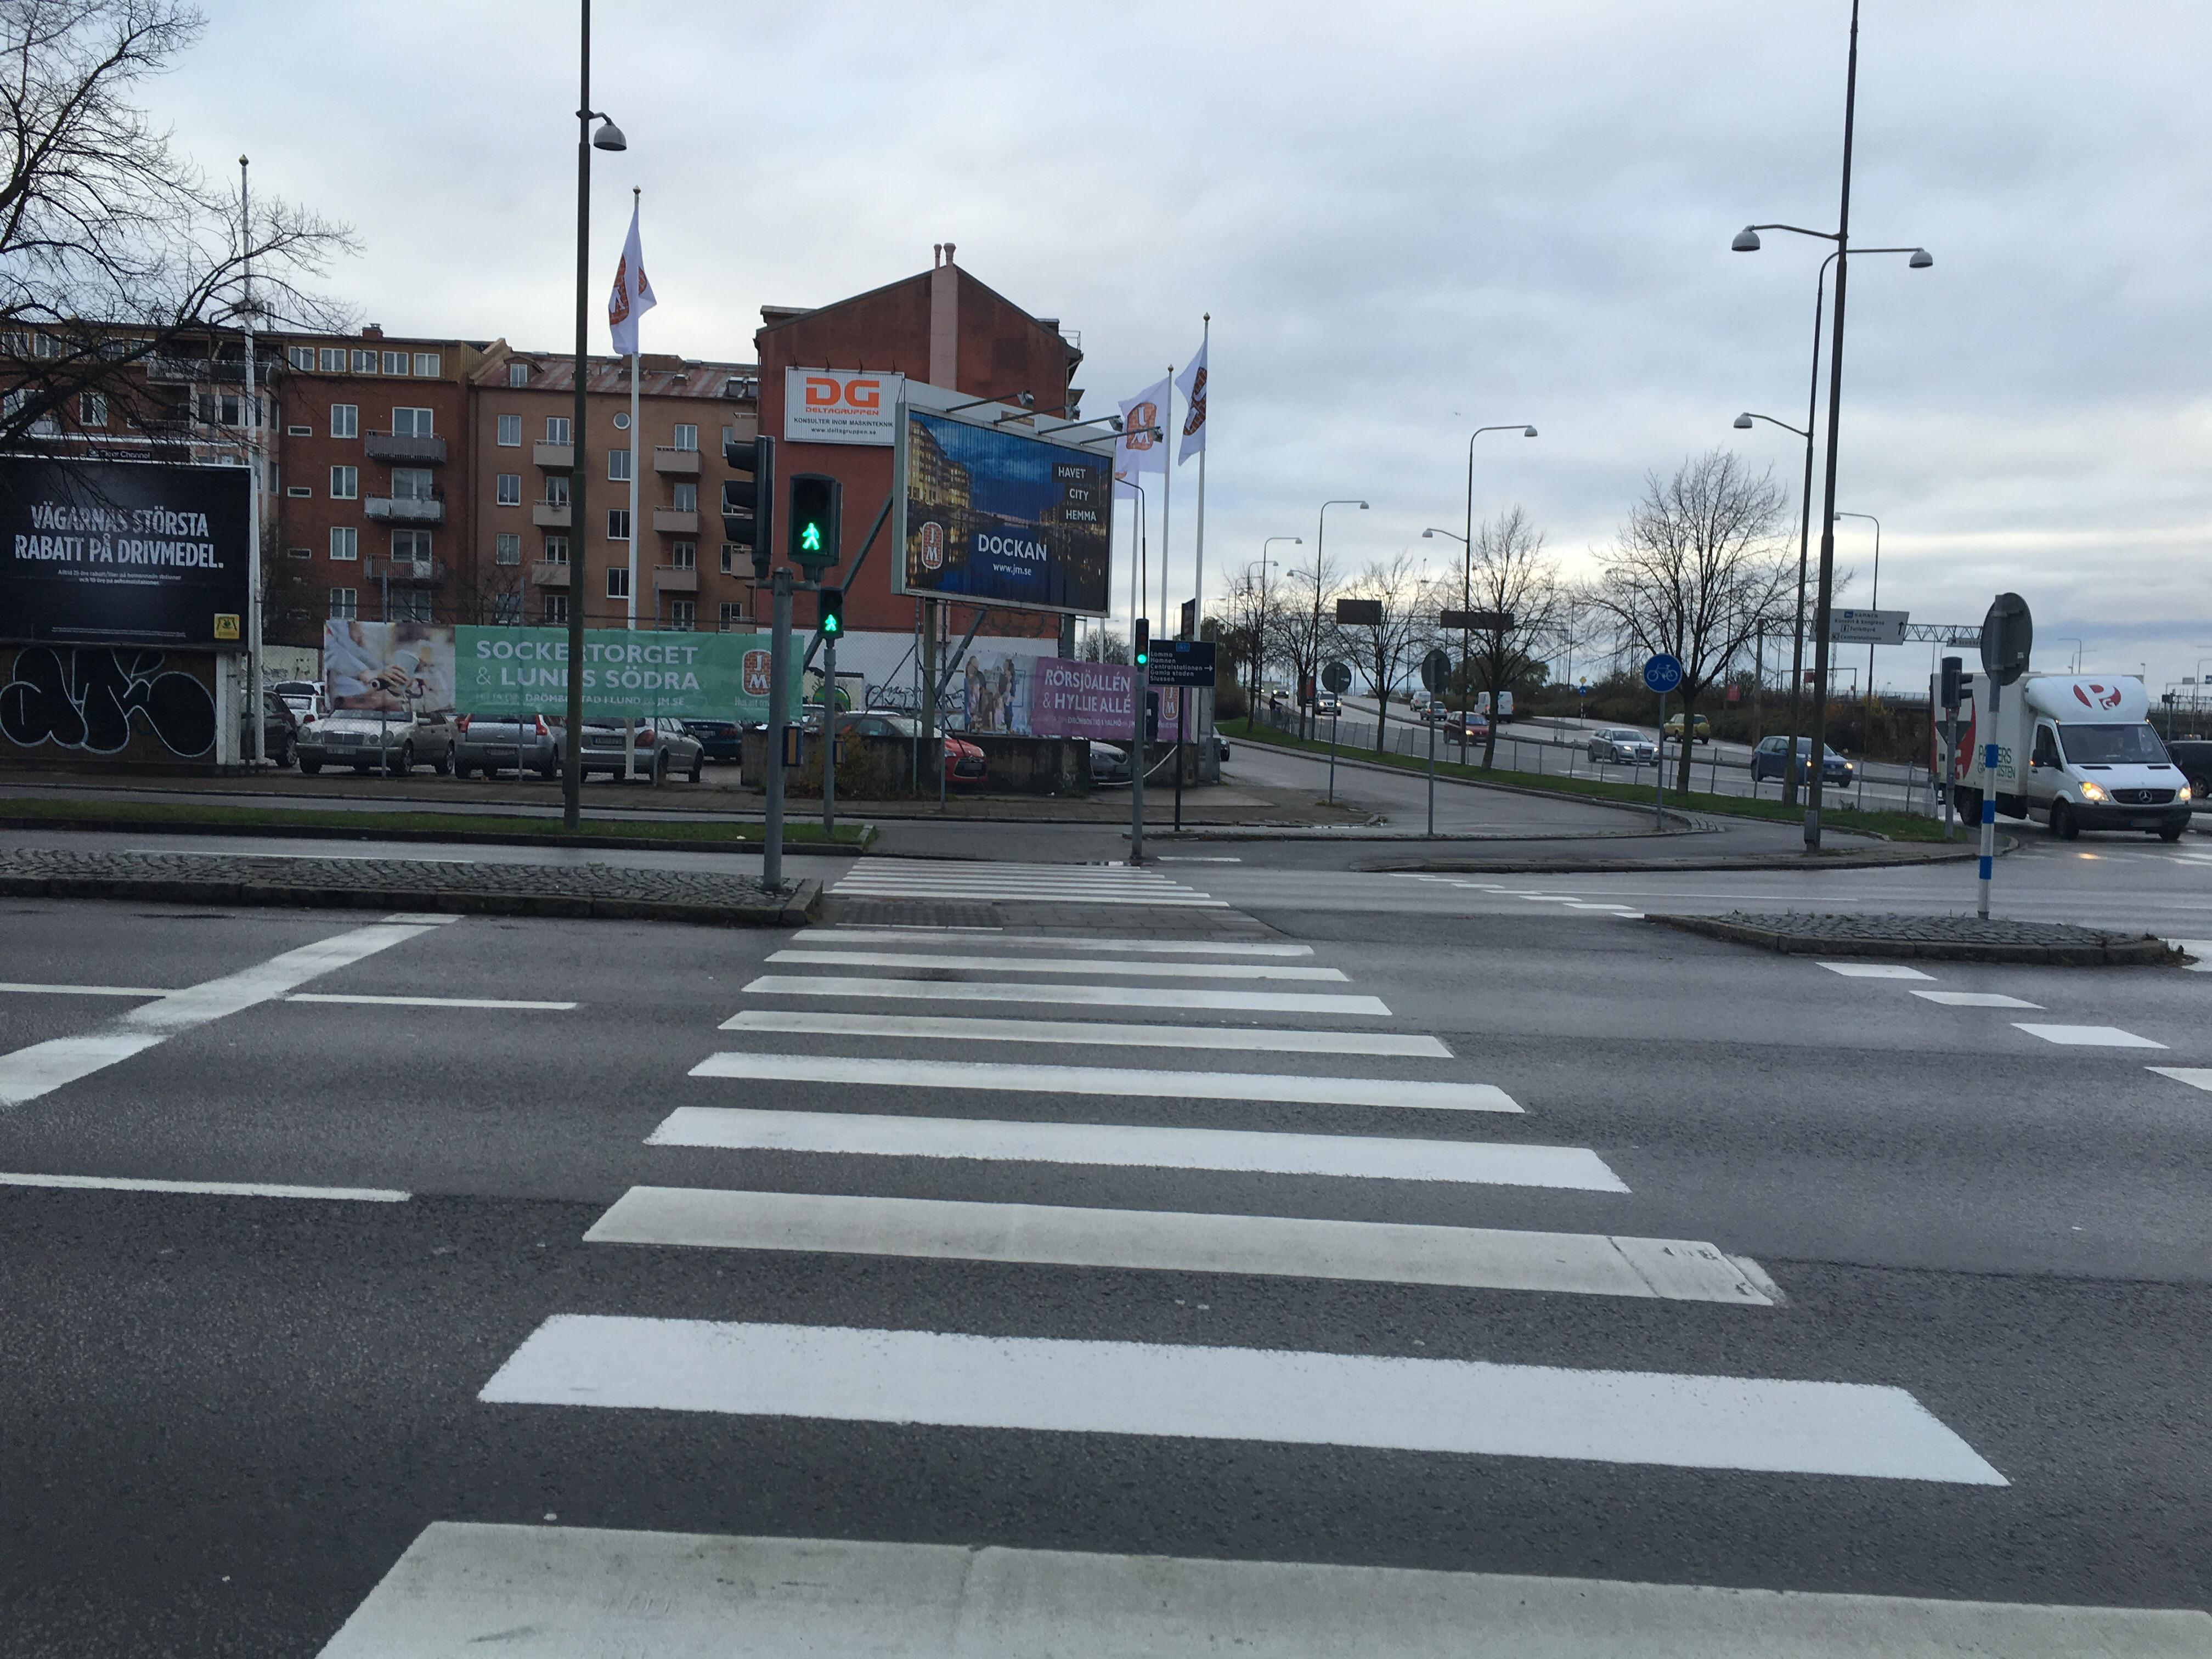vinyl banner: (307, 598, 829, 741), (944, 640, 1204, 748)
